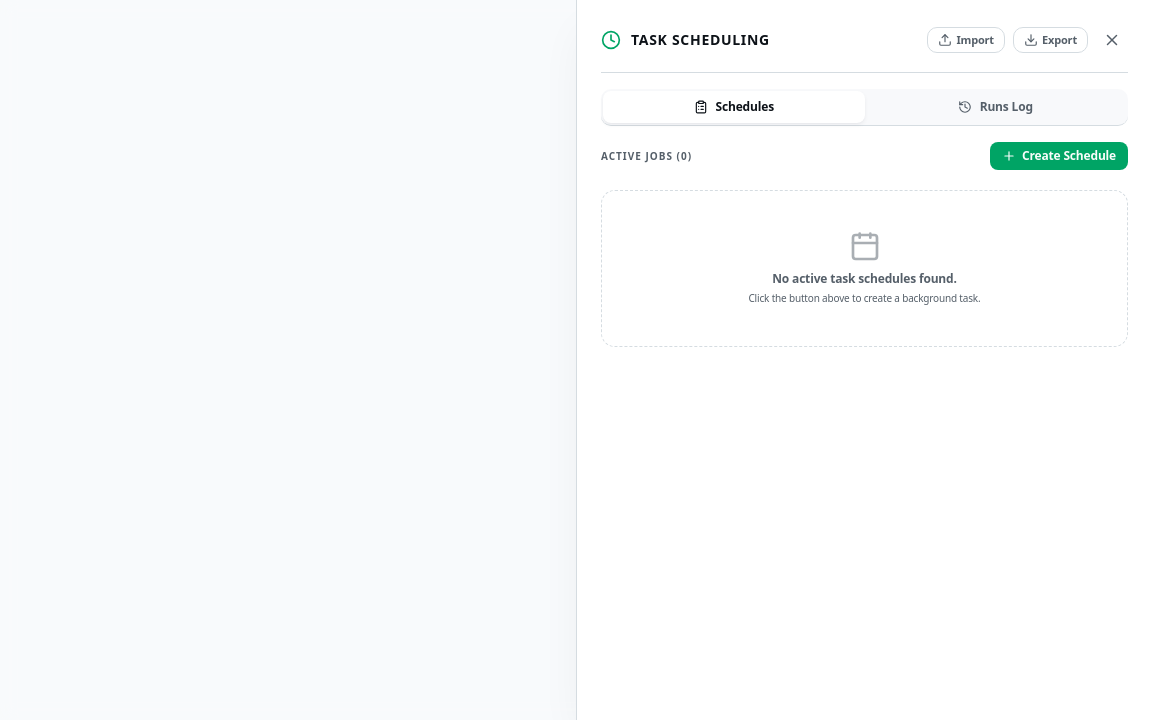
Scenario: SchedulesPanel Component › opens create task form modal when Create Schedule button is clicked
Click the button "Create Schedule": (1059, 156) x1=990 y1=142 x2=1128 y2=170
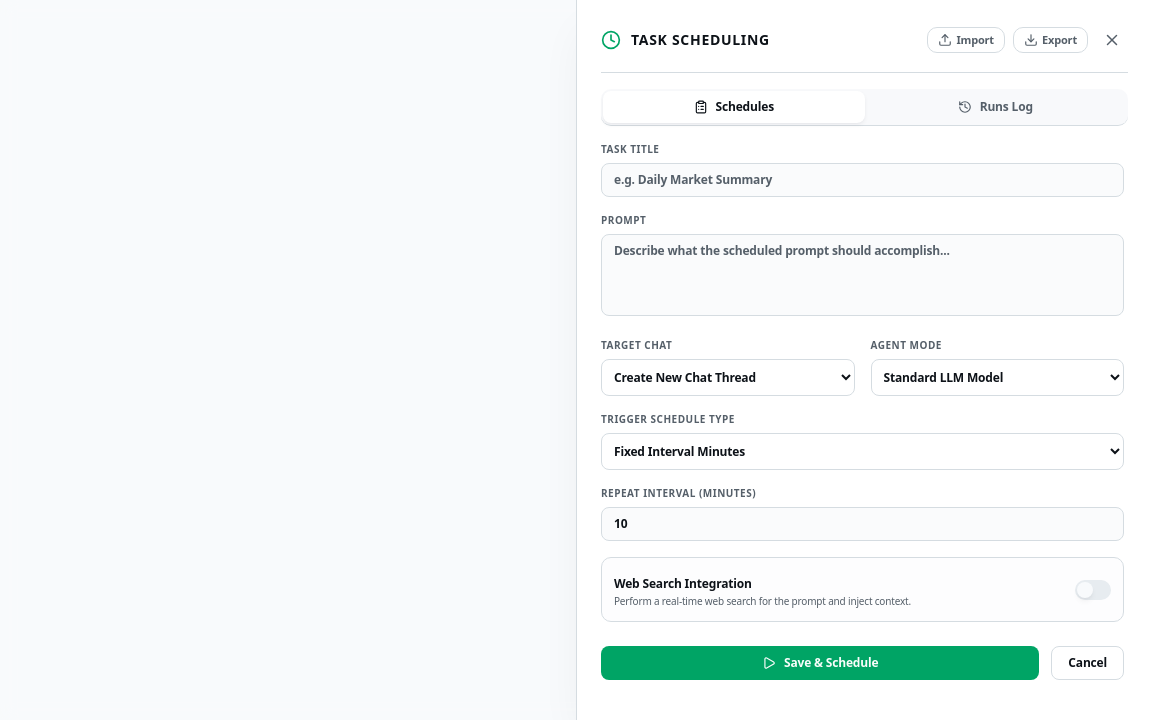
Expected: the field with placeholder "e.g. Daily Market Summary" is shown, x1=601 y1=163 x2=1124 y2=197
